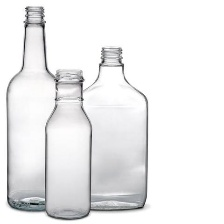bottle: (79, 38, 157, 211), (3, 4, 64, 218), (42, 63, 94, 221)
